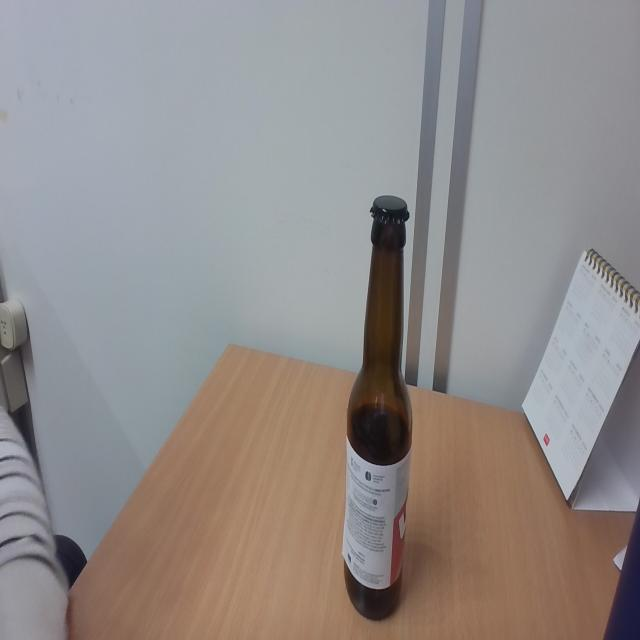Bottle: (342, 192, 413, 620)
Cap: (367, 193, 412, 230)
Label: (344, 446, 408, 592)
